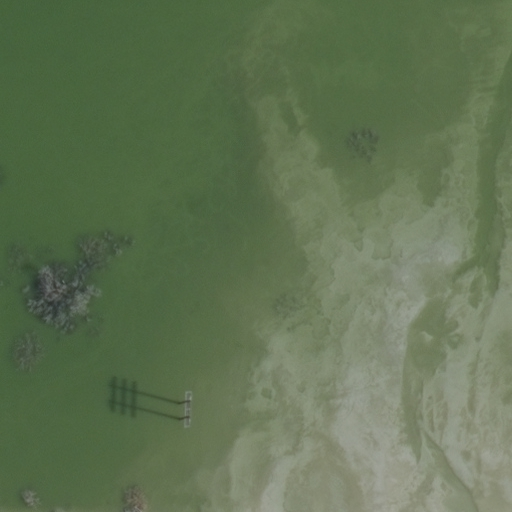TT: (169, 384, 200, 438)
